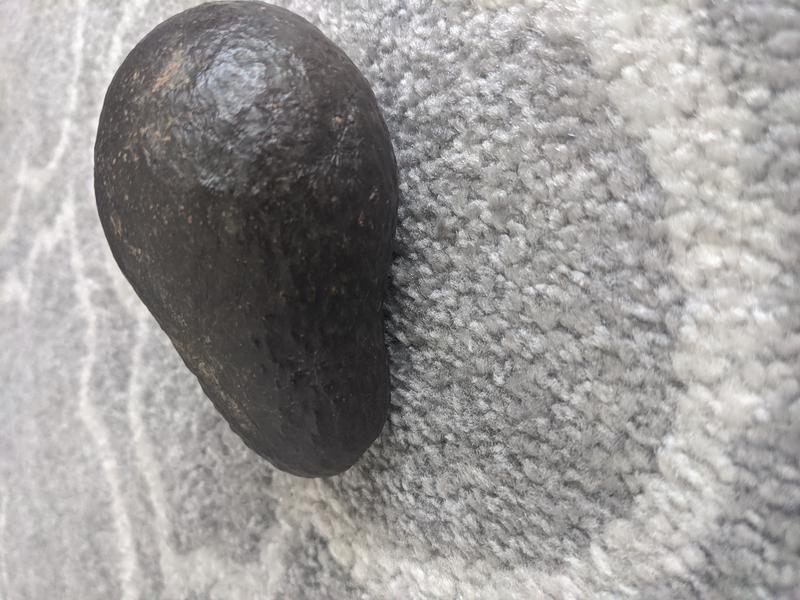avocado: (94, 2, 401, 479)
